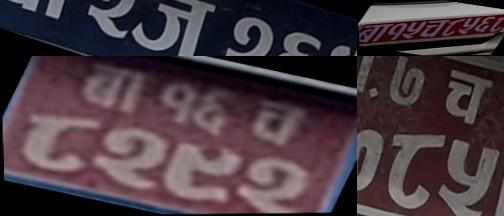1: (142, 74, 208, 131), (381, 21, 409, 41)
2: (81, 121, 183, 195), (221, 151, 328, 214), (210, 5, 283, 56), (73, 0, 146, 46)
4: (305, 27, 357, 56)
5: (422, 129, 504, 216), (399, 19, 427, 40), (454, 16, 481, 35)
6: (184, 84, 251, 142), (258, 14, 336, 56), (472, 15, 496, 33)
7: (357, 101, 397, 203), (378, 56, 437, 118)
8: (366, 114, 454, 216), (1, 102, 110, 178), (437, 16, 466, 38), (486, 14, 504, 32)
9: (153, 137, 254, 210)
ba: (66, 56, 164, 120), (0, 0, 87, 29), (357, 56, 387, 104), (358, 20, 391, 45)
cha: (236, 95, 314, 153), (432, 64, 498, 132), (416, 17, 448, 39)
ja: (120, 0, 223, 56)
